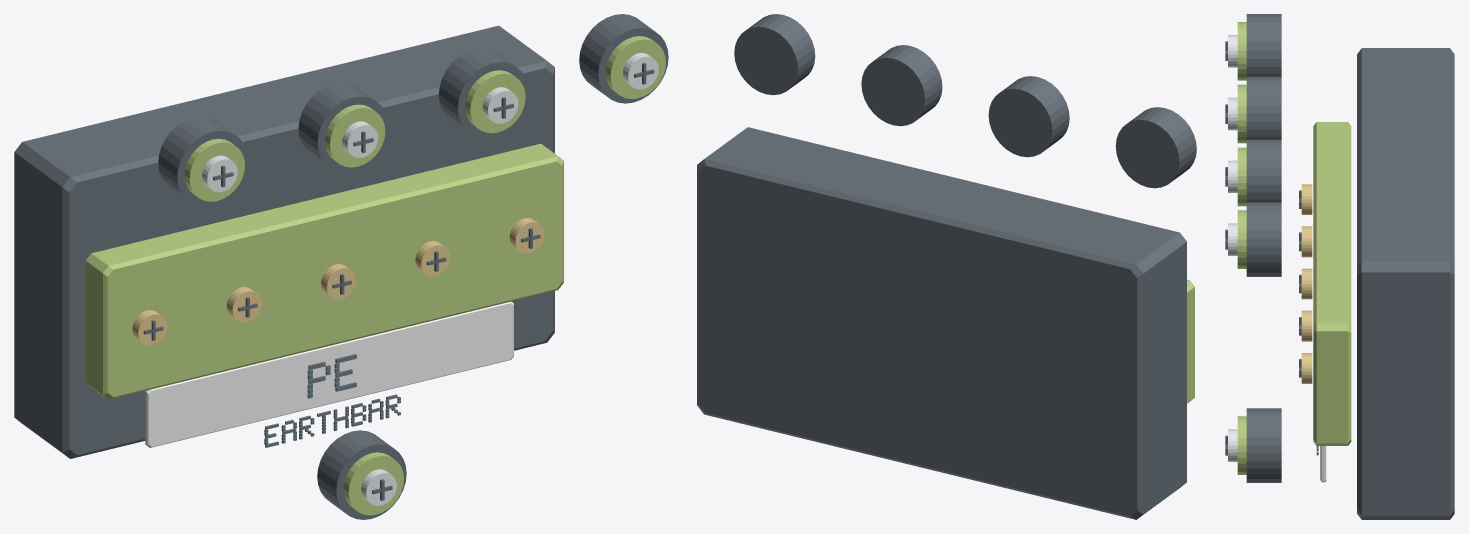
Rendered from earthBar.glb.
The picture shows the model from 3 angles, left to right: view 1: azimuth 30°, elevation 25°; view 2: azimuth 150°, elevation 25°; view 3: azimuth 270°, elevation 25°; orthographic projection. The views are drawn at different scales.
Parts seen in each view (by area): view 1: earthBar-detailed; view 2: earthBar-detailed; view 3: earthBar-detailed.
Part boxes in pixels (bbox=[...]): earthBar-detailed: bbox=[14, 14, 668, 519]; earthBar-detailed: bbox=[697, 14, 1196, 519]; earthBar-detailed: bbox=[1225, 14, 1454, 519].
Size of the model in its own units: 2.42 by 1.81 by 0.9644.
